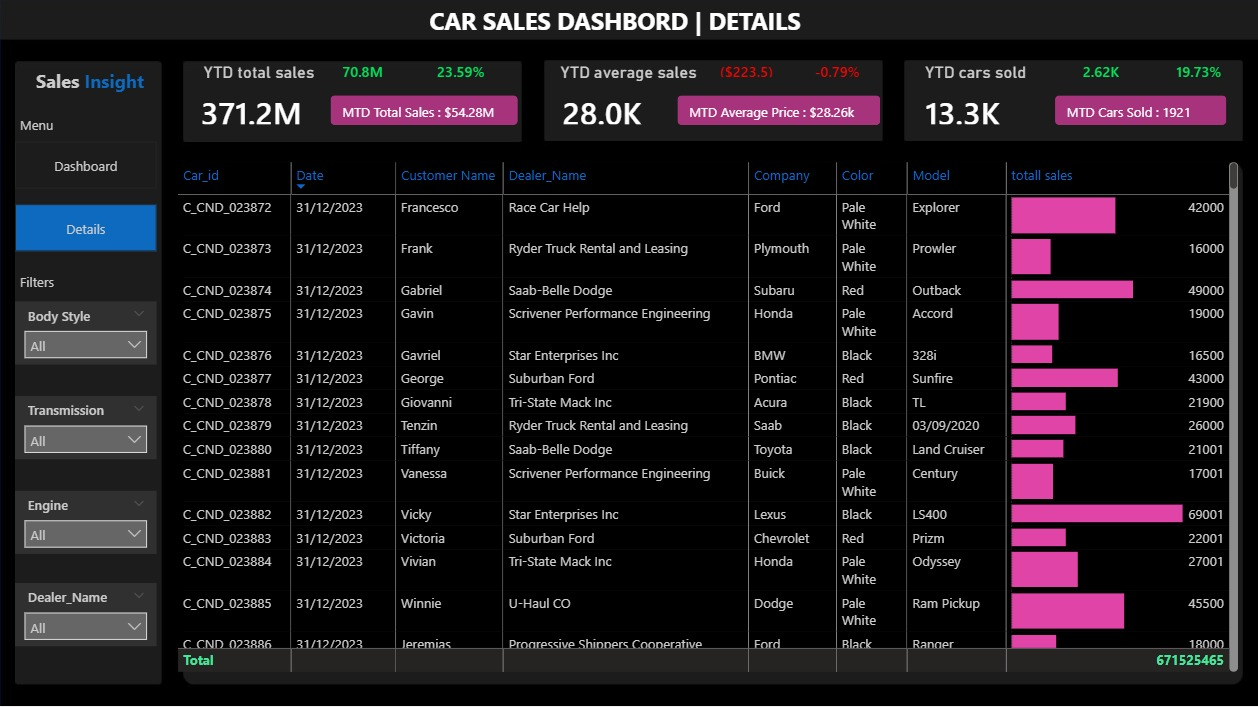

What the dashboard file says about the page in this screenshot:
{"tool":"powerbi","page":{"name":"Details","canvas":[1280,720],"ordinal":1},"visuals":[{"type":"cardVisual","title":"YTD total sales","fields":{"Data":["car_data.YTD total sales"]},"box":[176,64,176,80],"z":0},{"type":"cardVisual","fields":{"Data":["car_data.Sales Difference"]},"box":[320,48,128,48],"z":1000},{"type":"cardVisual","fields":{"Data":["car_data.YOY sales growth"]},"box":[416,48,112,48],"z":2000},{"type":"cardVisual","fields":{"Data":["car_data.MTD KPI"]},"box":[320,80,224,64],"z":3000},{"type":"cardVisual","title":"YTD average sales","fields":{"Data":["car_data.YTD avg price"]},"box":[544,64,192,80],"z":4000},{"type":"cardVisual","fields":{"Data":["car_data.avg price diff"]},"box":[704,48,128,48],"z":5000},{"type":"cardVisual","fields":{"Data":["car_data.YOY avg price growth"]},"box":[800,48,112,48],"z":6000},{"type":"cardVisual","fields":{"Data":["car_data.MTD KPI avg price"]},"box":[672,80,240,64],"z":7000},{"type":"cardVisual","title":"YTD cars sold","fields":{"Data":["car_data.YTD cars sold"]},"box":[912,64,160,80],"z":8000},{"type":"cardVisual","fields":{"Data":["car_data.car diff"]},"box":[1072,48,96,48],"z":9000},{"type":"cardVisual","fields":{"Data":["car_data.MTD KPI CAR SOLD"]},"box":[1056,80,208,64],"z":10000},{"type":"cardVisual","fields":{"Data":["car_data.YOY cars sold"]},"box":[1168,48,112,48],"z":11000},{"type":"textbox","box":[432,0,432,48],"z":12000},{"type":"tableEx","fields":{"Values":["car_data.Car_id","car_data.Date","car_data.Customer Name","car_data.Dealer_Name","car_data.Company","car_data.Color","car_data.Model","car_data.totall sales"]},"box":[192,160,1072,528],"z":13000},{"type":"slicer","title":"Body Style","fields":{"Values":["car_data.Body Style"]},"box":[16,306.6,144,64],"z":14000},{"type":"slicer","title":"Body Style","fields":{"Values":["car_data.Transmission"]},"box":[16,402.7,144,64],"z":15000},{"type":"slicer","title":"Body Style","fields":{"Values":["car_data.Engine"]},"box":[16,498.6,144,64],"z":16000},{"type":"slicer","title":"Body Style","fields":{"Values":["car_data.Dealer_Name"]},"box":[16,592,144,64],"z":17000},{"type":"pageNavigator","box":[16,208,144,48],"z":18000},{"type":"pageNavigator","box":[16,144,144,48],"z":19000},{"type":"textbox","box":[16,272,80,32],"z":20000},{"type":"textbox","box":[16,112,80,32],"z":21000},{"type":"textbox","box":[32,64,128,48],"z":22000}]}

Visuals, with their boxes on the page's 1280x720 design canvas (x1, y1, x2, y2). These are canvas units, not pixel positions in the 1258x707 screenshot, which may show the page scaled, cropped or inside an application window:
"YTD total sales" cardVisual: Rect(176, 64, 352, 144)
cardVisual - car_data.Sales Difference: Rect(320, 48, 448, 96)
cardVisual - car_data.YOY sales growth: Rect(416, 48, 528, 96)
cardVisual - car_data.MTD KPI: Rect(320, 80, 544, 144)
"YTD average sales" cardVisual: Rect(544, 64, 736, 144)
cardVisual - car_data.avg price diff: Rect(704, 48, 832, 96)
cardVisual - car_data.YOY avg price growth: Rect(800, 48, 912, 96)
cardVisual - car_data.MTD KPI avg price: Rect(672, 80, 912, 144)
"YTD cars sold" cardVisual: Rect(912, 64, 1072, 144)
cardVisual - car_data.car diff: Rect(1072, 48, 1168, 96)
cardVisual - car_data.MTD KPI CAR SOLD: Rect(1056, 80, 1264, 144)
cardVisual - car_data.YOY cars sold: Rect(1168, 48, 1280, 96)
textbox: Rect(432, 0, 864, 48)
tableEx - car_data.Car_id x car_data.Date: Rect(192, 160, 1264, 688)
"Body Style" slicer: Rect(16, 307, 160, 371)
"Body Style" slicer: Rect(16, 403, 160, 467)
"Body Style" slicer: Rect(16, 499, 160, 563)
"Body Style" slicer: Rect(16, 592, 160, 656)
pageNavigator: Rect(16, 208, 160, 256)
pageNavigator: Rect(16, 144, 160, 192)
textbox: Rect(16, 272, 96, 304)
textbox: Rect(16, 112, 96, 144)
textbox: Rect(32, 64, 160, 112)
